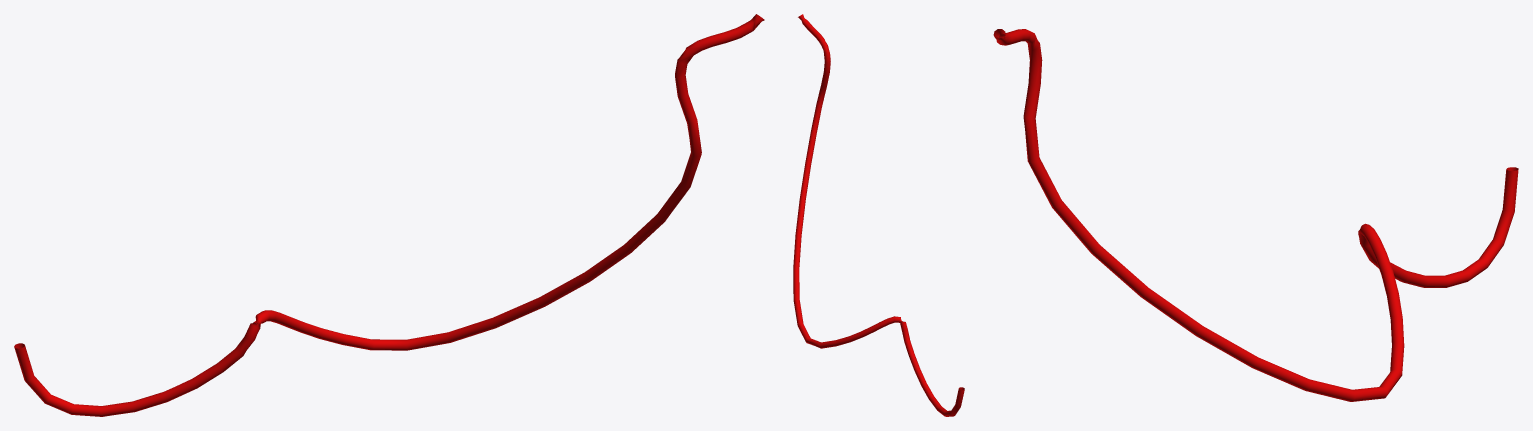
File: Attic_Cable_01_LP_Splines_10.glb
3 views of the same model, side by side, from view 1: azimuth 30°, elevation 25°; view 2: azimuth 150°, elevation 25°; view 3: azimuth 270°, elevation 25° (orthographic). The views are drawn at different scales.
Parts seen in each view (by area): view 1: Attic_Cable_01_LP_Splines_10; view 2: Attic_Cable_01_LP_Splines_10; view 3: Attic_Cable_01_LP_Splines_10.
Part boxes in pixels (x1,y1,x2,y2): Attic_Cable_01_LP_Splines_10: [14, 14, 764, 416]; Attic_Cable_01_LP_Splines_10: [793, 14, 964, 416]; Attic_Cable_01_LP_Splines_10: [993, 29, 1518, 401].
Size of the model in its own units: 2.28 by 1.85 by 1.76.
